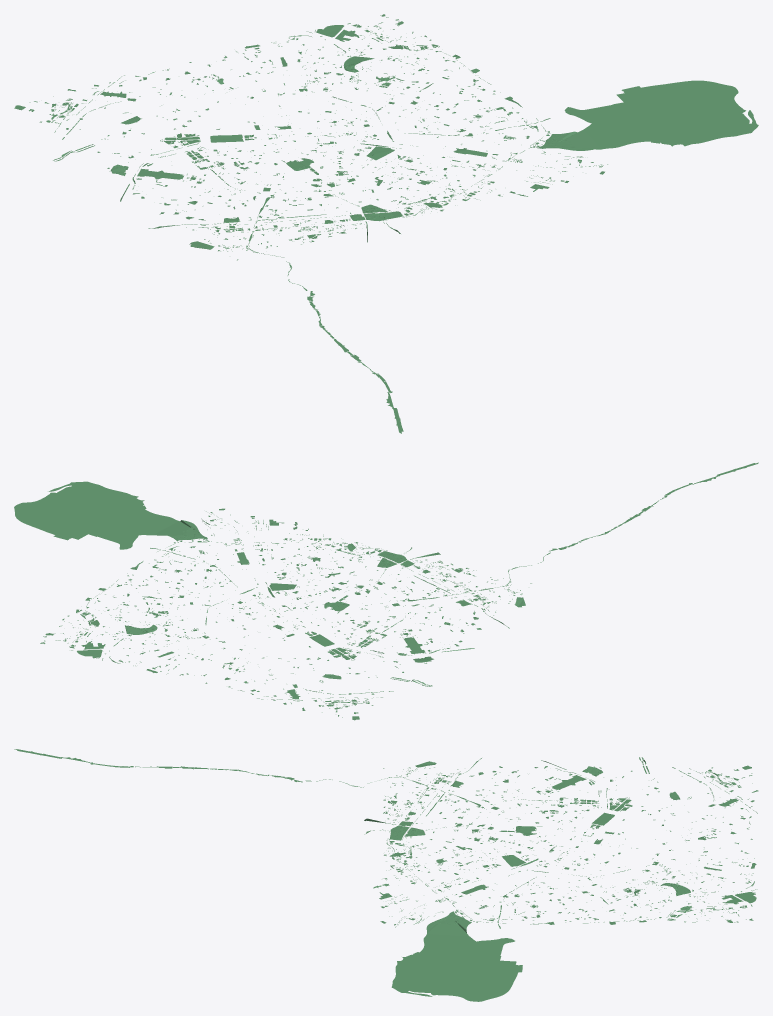
The model's file is green.glb.
3 renders of one model, top to bottom at view 1: azimuth 30°, elevation 25°; view 2: azimuth 150°, elevation 25°; view 3: azimuth 270°, elevation 25°, orthographic. The views are drawn at different scales.
Parts seen in each view (by area): view 1: green; view 2: green; view 3: green.
Part boxes in pixels (x1,y1,x2,y2): green: (14, 14, 758, 433); green: (14, 462, 758, 720); green: (14, 749, 758, 1001).
Bounding box in the file's own units: 14611 × 129 × 18204.
